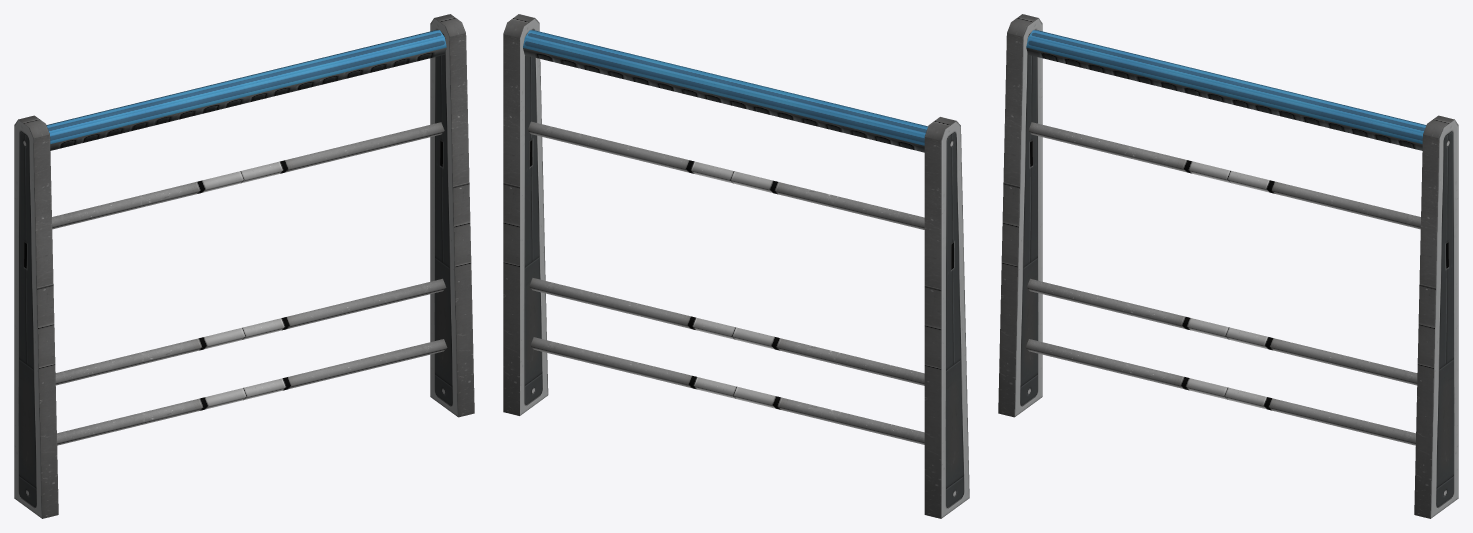
File: Fence_Vert_01.FBX
3 renders of one model, left to right at view 1: azimuth 30°, elevation 25°; view 2: azimuth 150°, elevation 25°; view 3: azimuth 330°, elevation 25°, orthographic.
Visible parts, largest first — view 1: Fence_Vert_01; view 2: Fence_Vert_01; view 3: Fence_Vert_01.
Boxes of the visible parts, <box> form: Fence_Vert_01: <box>14,14,474,518</box>; Fence_Vert_01: <box>503,14,969,518</box>; Fence_Vert_01: <box>998,14,1458,518</box>.
Size of the model in its own units: 52.36 by 44.18 by 5.9.
